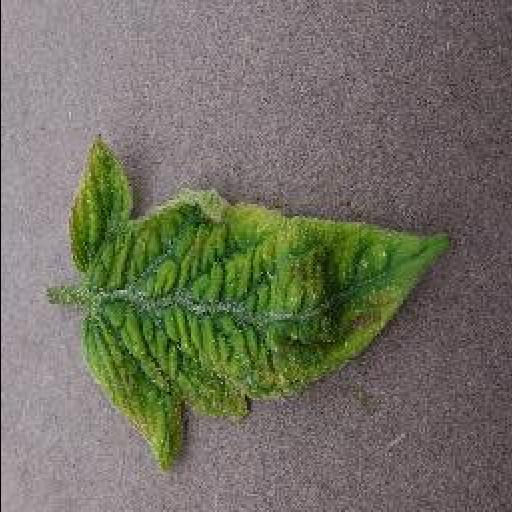disease_tomato: (72, 133, 454, 475)
